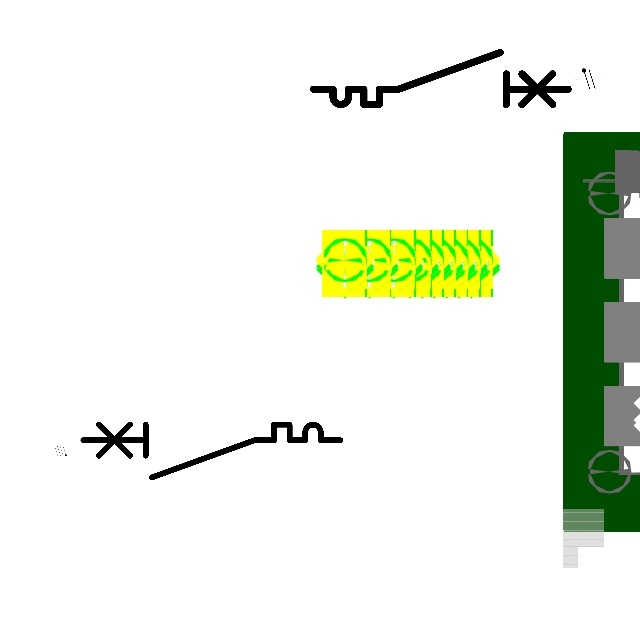interruptor_termomagnetico: (76, 418, 346, 484), (307, 46, 575, 111)
